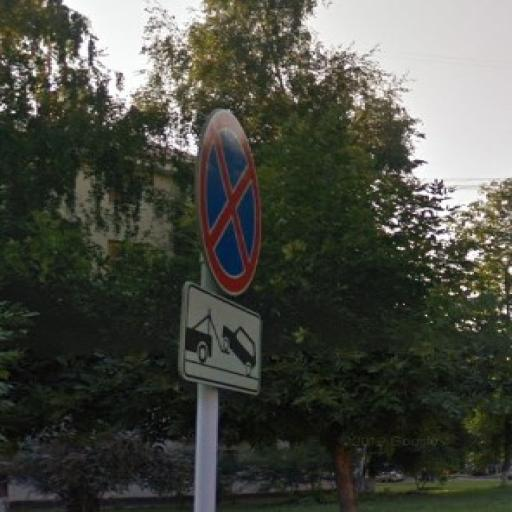traffic_sign: (191, 106, 269, 299)
